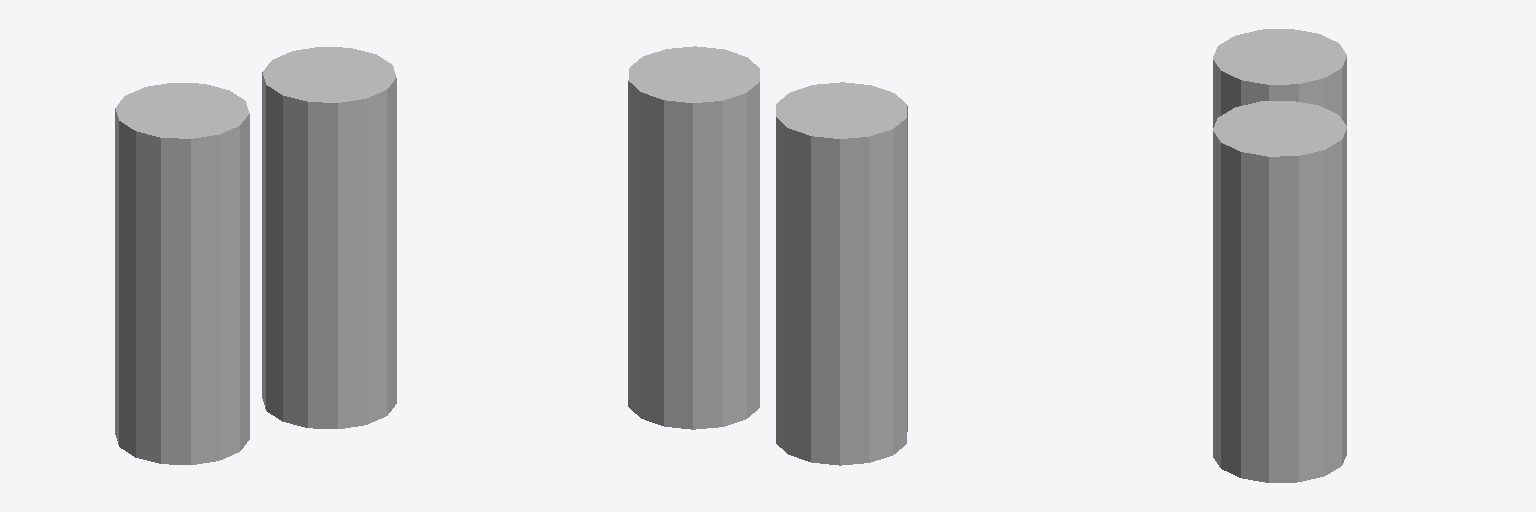
File: Legs.obj
The picture shows the model from 3 angles: view 1: azimuth 30°, elevation 25°; view 2: azimuth 150°, elevation 25°; view 3: azimuth 270°, elevation 25°; orthographic projection.
Parts seen in each view (by area): view 1: Default; view 2: Default; view 3: Default.
Part boxes in pixels (bbox=[...]): Default: bbox=[115, 47, 396, 464]; Default: bbox=[628, 46, 907, 465]; Default: bbox=[1213, 29, 1346, 482].
Bounding box in the file's own units: 11.35 × 13.5 × 5.05.